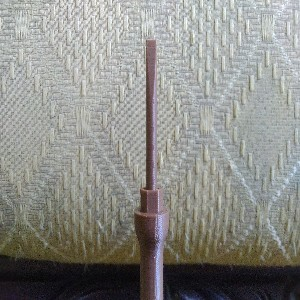obeng: (134, 39, 170, 300)
